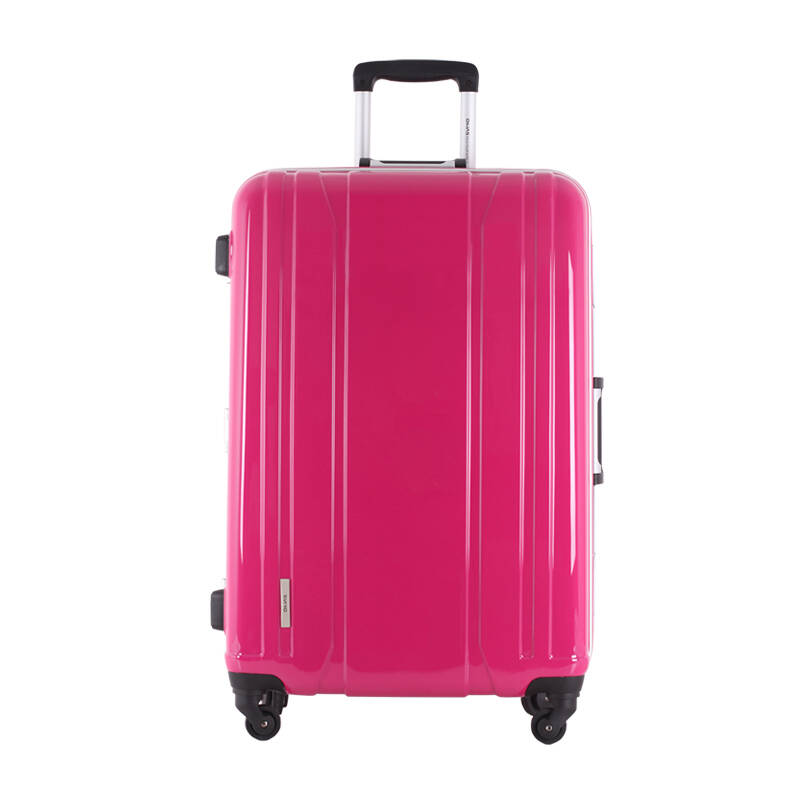luggage: (208, 59, 606, 746)
